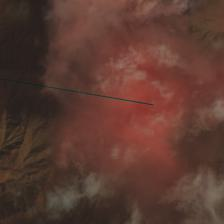landslides: (212, 161, 220, 177)
